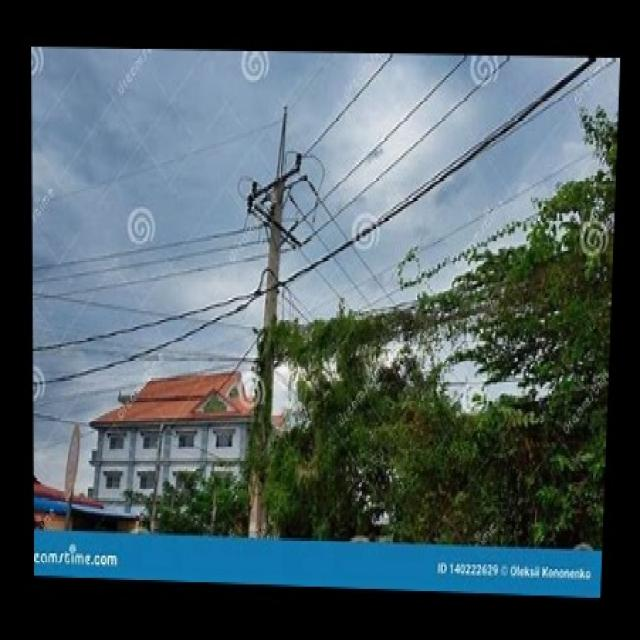critical vegetation: (262, 297, 610, 399)
